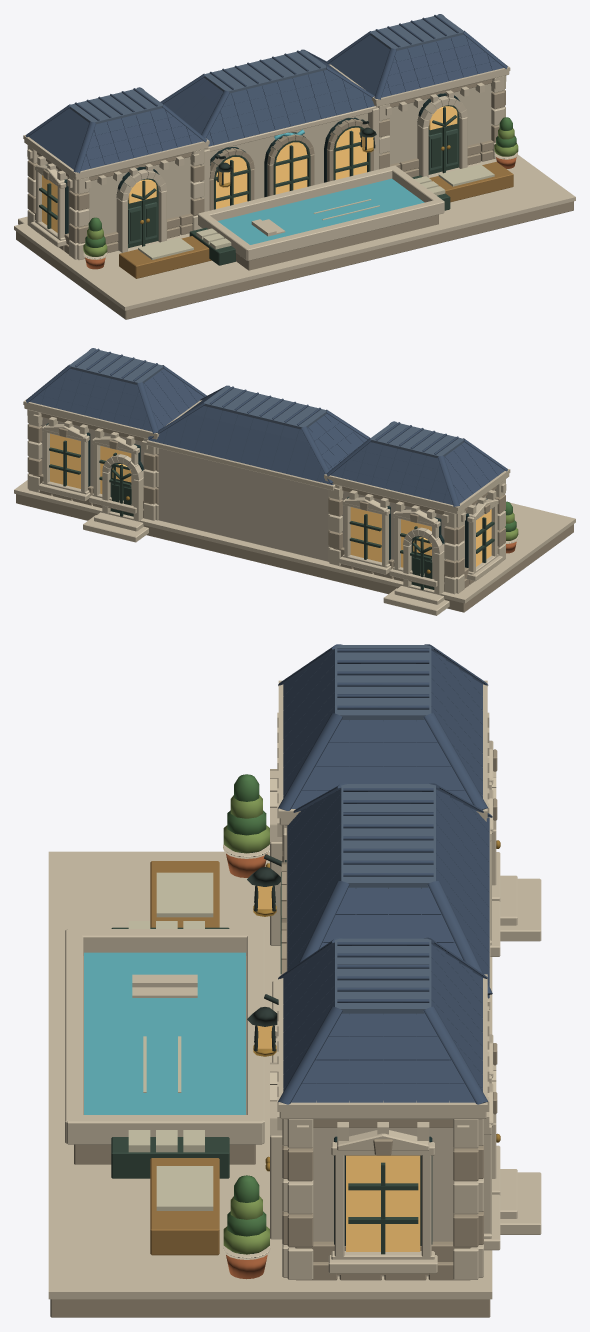
3 views of the same model, one above another, from view 1: azimuth 30°, elevation 25°; view 2: azimuth 150°, elevation 25°; view 3: azimuth 270°, elevation 25° (orthographic). The views are drawn at different scales.
Visible parts, largest first — view 1: classic_onsen_1_geometry, classic_onsen_1_geometry ceramic; view 2: classic_onsen_1_geometry, classic_onsen_1_geometry ceramic; view 3: classic_onsen_1_geometry, classic_onsen_1_geometry ceramic.
Boxes of the visible parts, x1,y1,x2,y2 form: classic_onsen_1_geometry: (14,64,575,319); classic_onsen_1_geometry ceramic: (25,14,507,173); classic_onsen_1_geometry: (14,395,575,615); classic_onsen_1_geometry ceramic: (26,348,507,506); classic_onsen_1_geometry: (48,680,541,1317); classic_onsen_1_geometry ceramic: (278,644,492,1104).
Bounding box in the file's own units: 1.87 × 0.546 × 0.8849.
